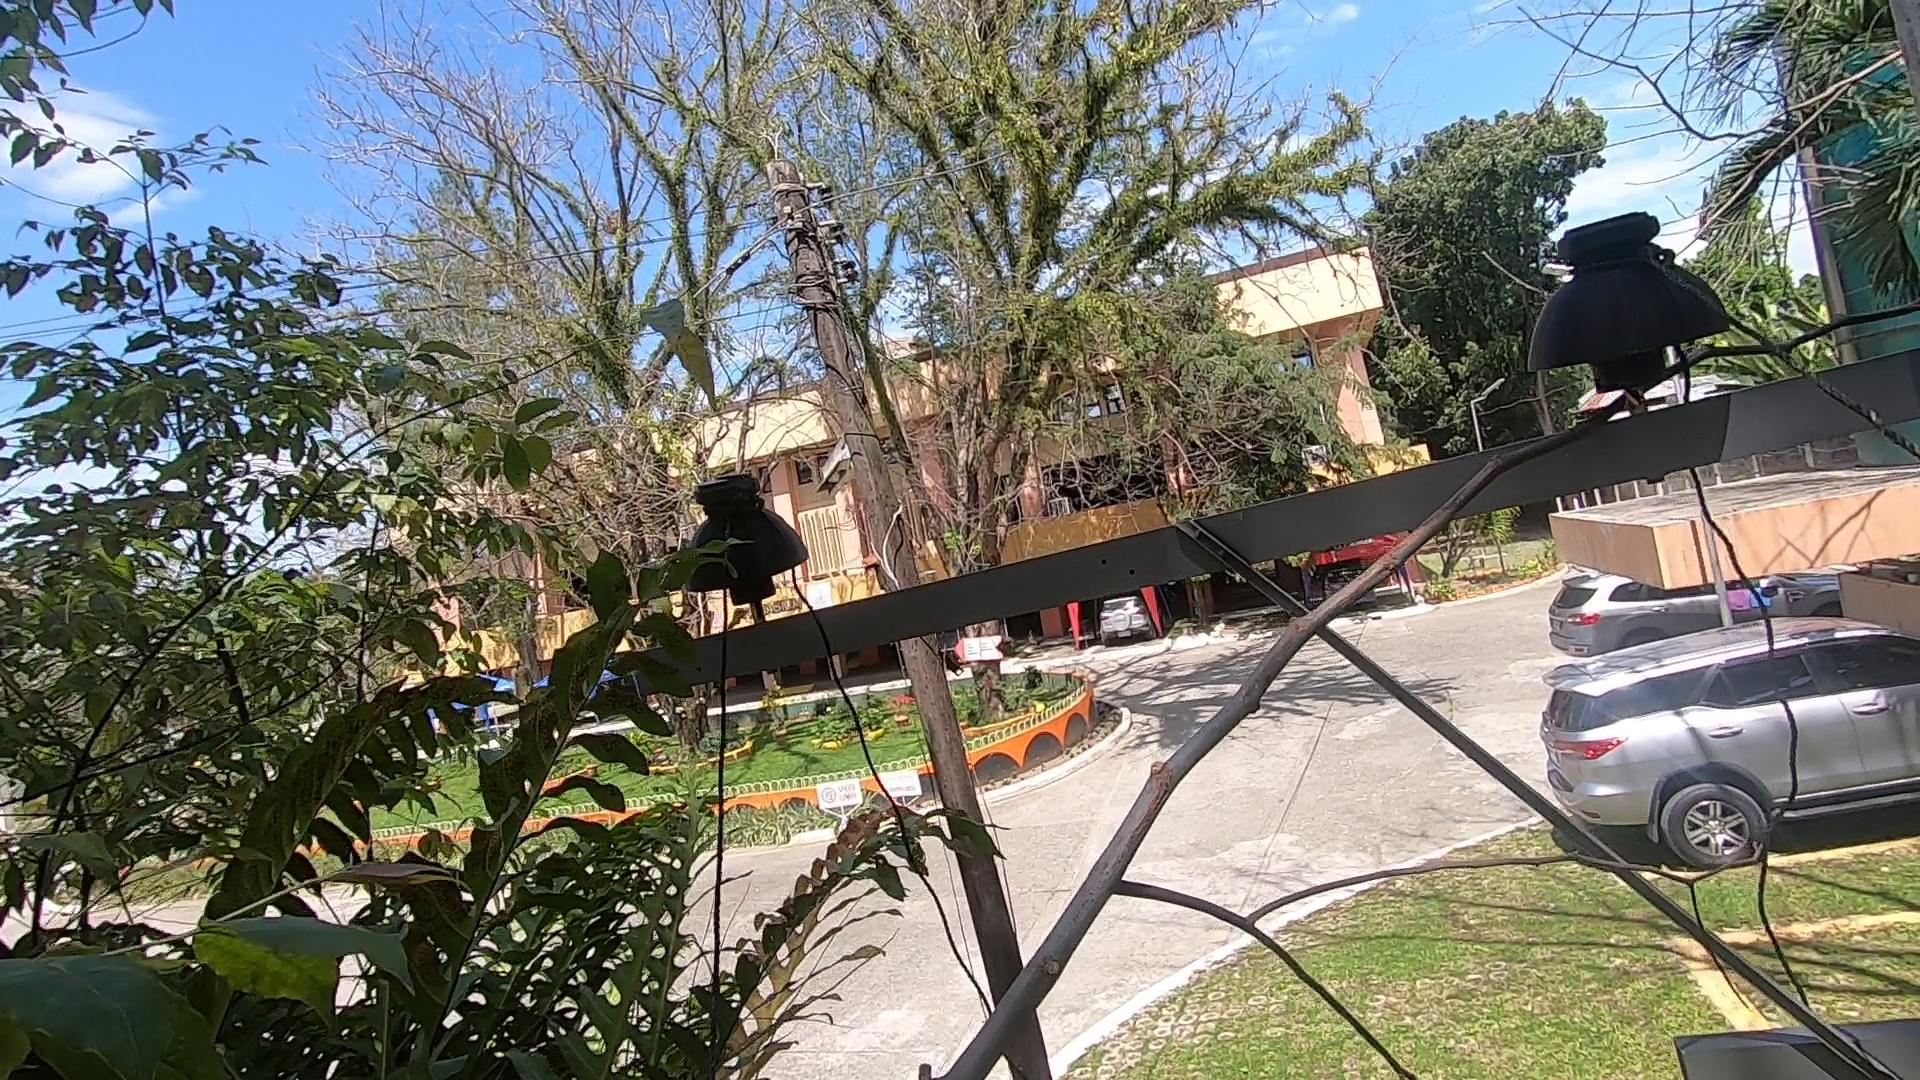tree branch: (760, 255, 1920, 1005)
